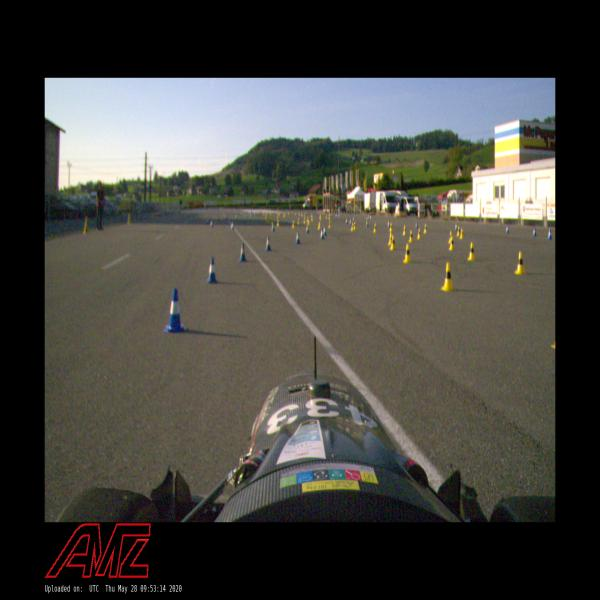blue_cone: (163, 288, 185, 333), (205, 256, 218, 284), (239, 242, 246, 262), (265, 236, 271, 251), (546, 228, 553, 240), (532, 226, 538, 237), (296, 230, 300, 244), (320, 228, 324, 239), (323, 225, 327, 236), (506, 224, 510, 234)
yellow_cone: (440, 262, 454, 291), (514, 251, 527, 275), (403, 243, 412, 264), (467, 242, 477, 260), (390, 235, 397, 251), (449, 236, 455, 250), (408, 230, 414, 244), (448, 230, 453, 244), (388, 232, 393, 246), (416, 228, 422, 239), (423, 223, 428, 235), (403, 226, 408, 236), (460, 228, 464, 239), (457, 226, 461, 237), (374, 223, 378, 233), (389, 222, 393, 232)
